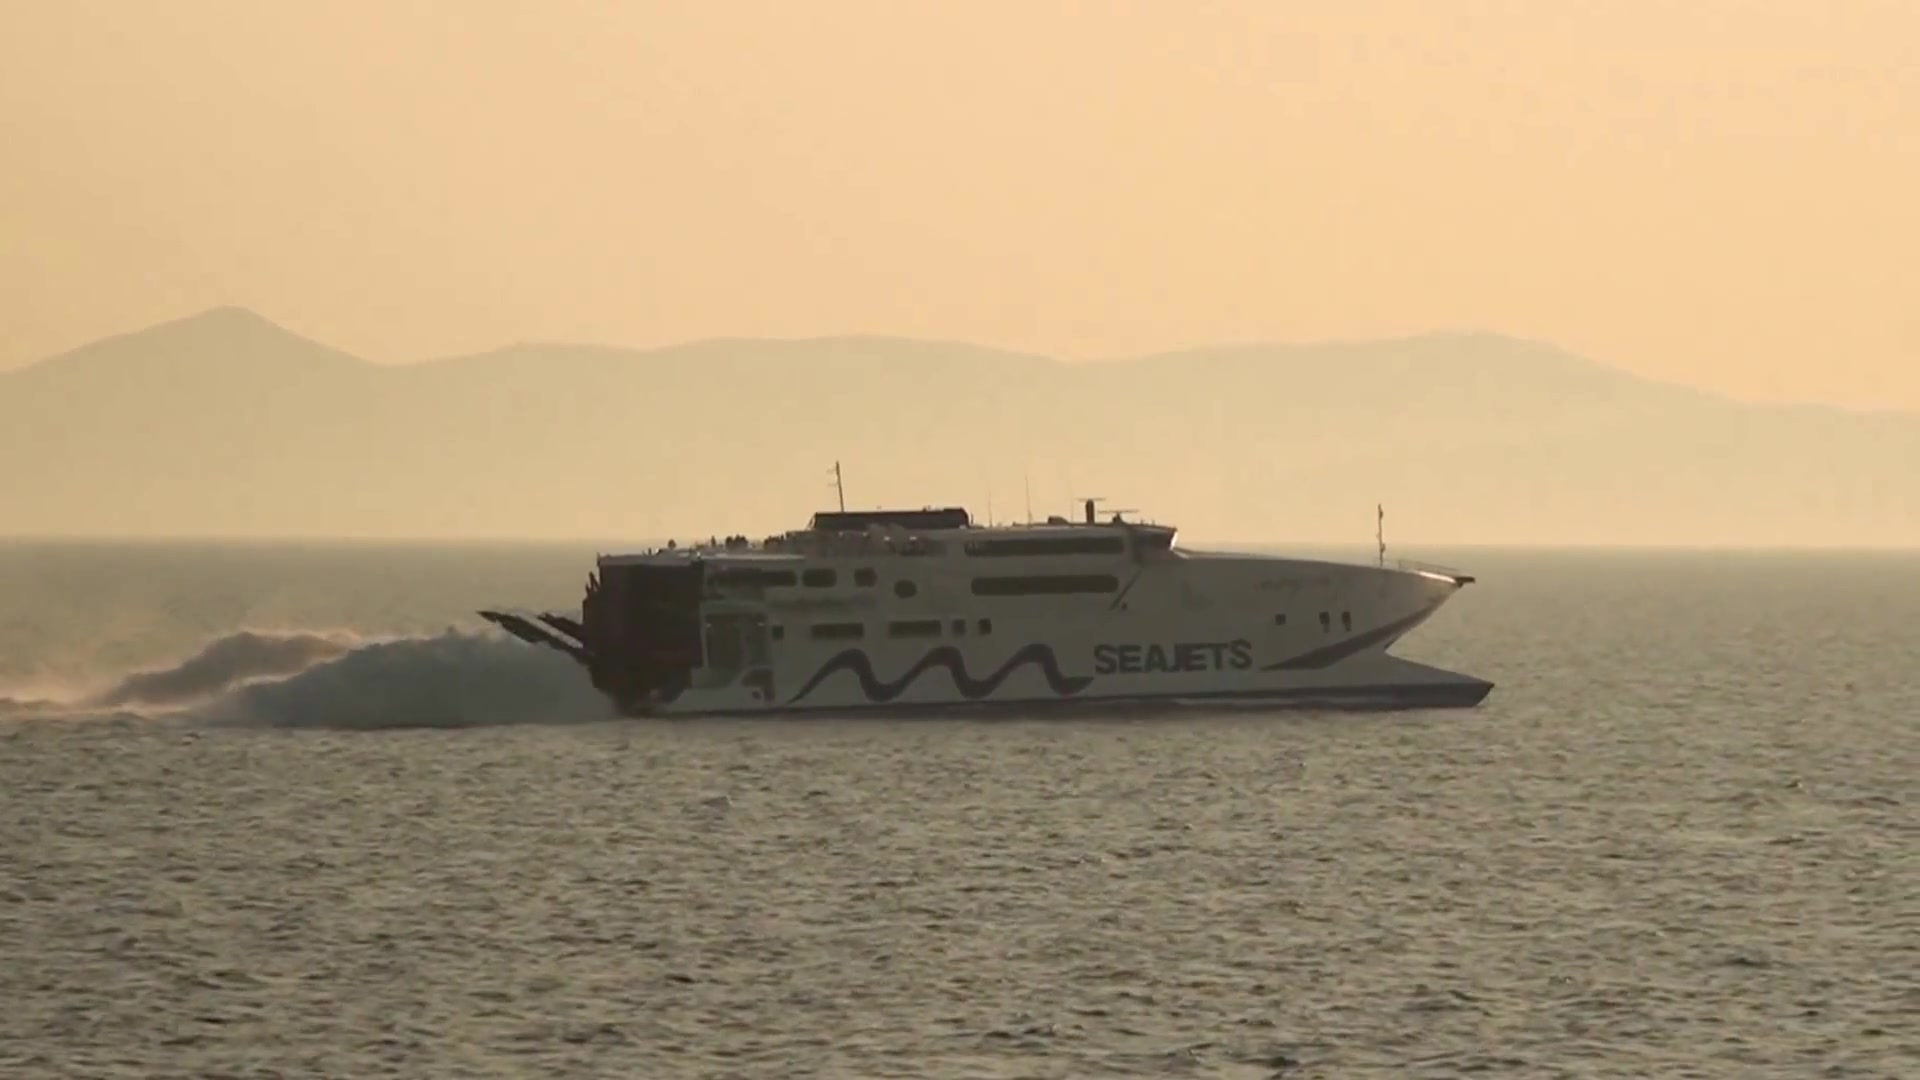CommonShip: (496, 458, 1518, 723)
